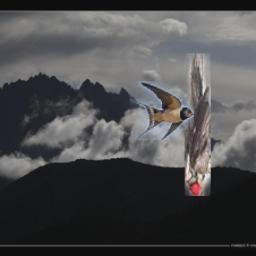Swallow: (130, 81, 195, 140)
Woodpecker: (186, 53, 212, 196)
